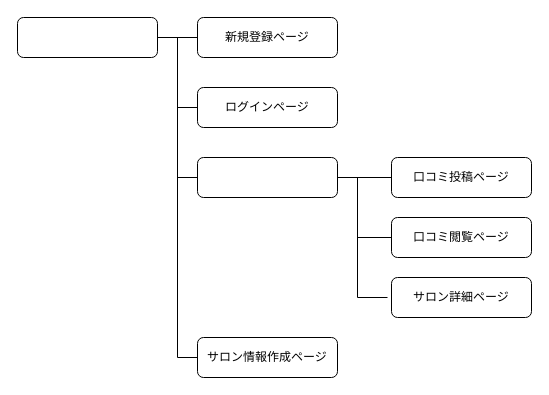
The diagram is 549 pixels wide and 395 high, and some of its shapes have lost their labels. The centre of each missing label's shape, as x and y in pixels:
"サロン一覧ページ" goes at point 267,177.
"トップページ" goes at point 87,37.
